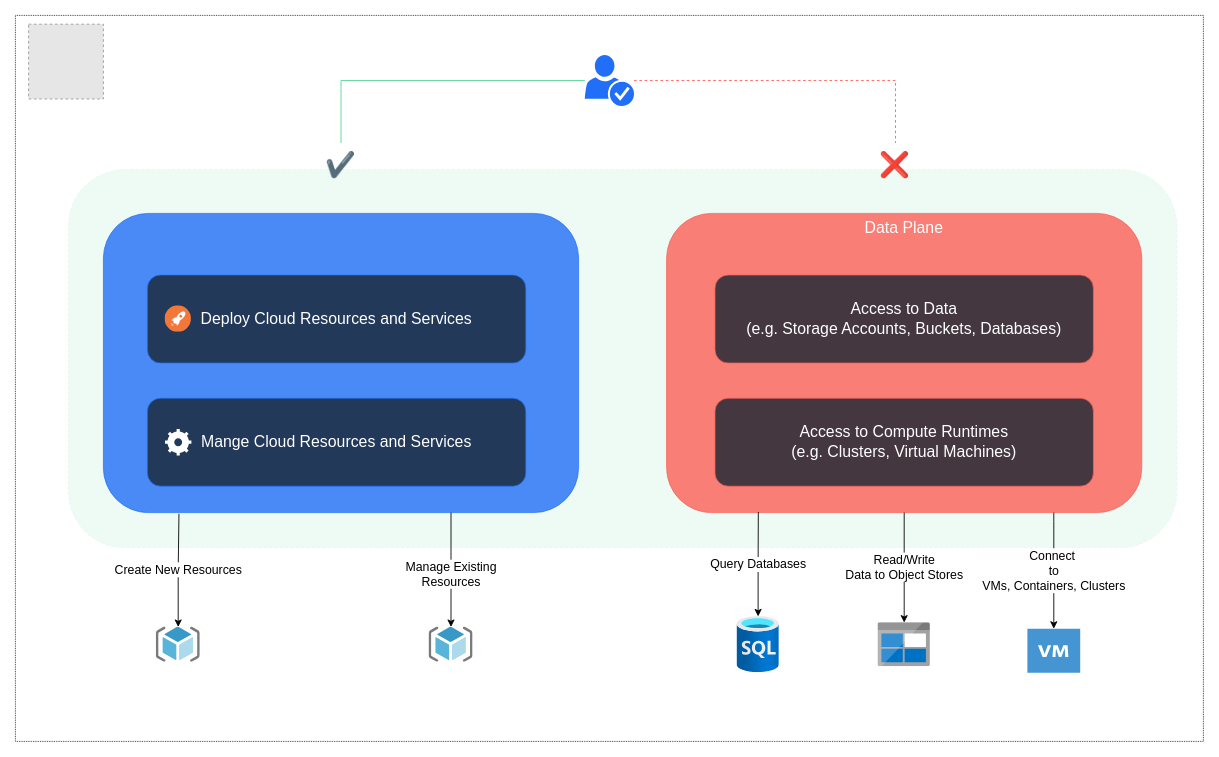
Some shapes in this 1219 by 757 pixel diagram are drawn without their labels. Grey dashed boxes stand in for pictures. Each missing label, with the box of its shape:
Control Plane: (103, 213, 579, 513)
Customer Cloud Environment: (67, 169, 1177, 548)
Ingenii Deployment Agent: (584, 55, 634, 106)
